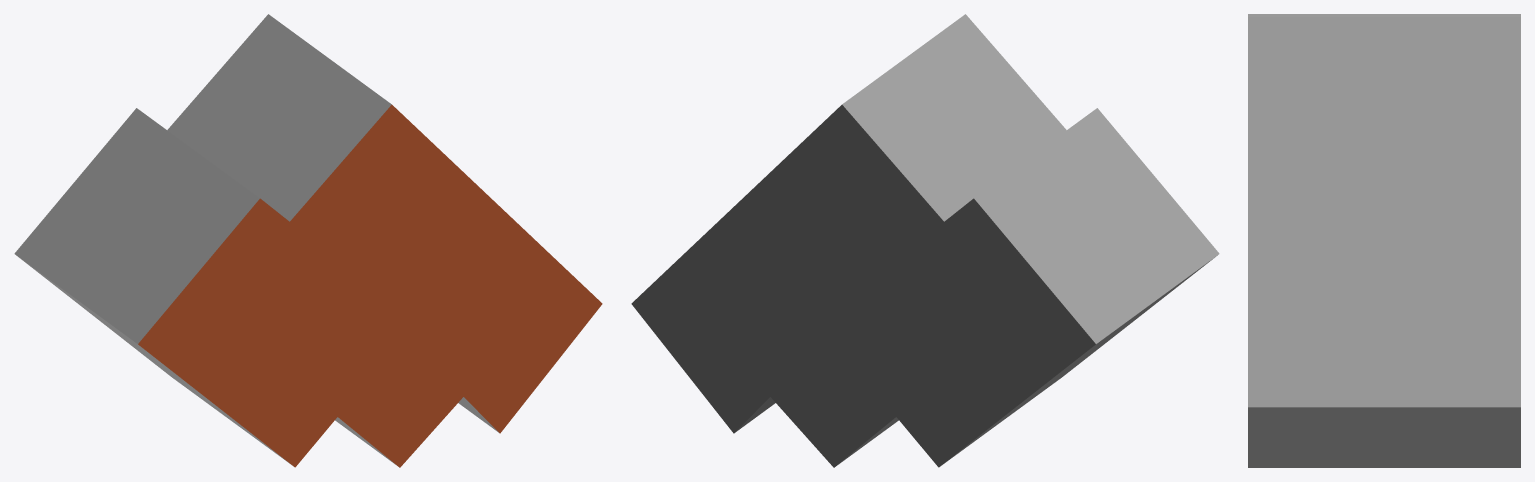
Rendered from construction_3360_assumed_A_Casa_h6m.obj.
3 renders of one model, left to right at view 1: azimuth 30°, elevation 25°; view 2: azimuth 150°, elevation 25°; view 3: azimuth 270°, elevation 25°, orthographic. The views are drawn at different scales.
Visible parts, largest first — view 1: construction_3360_assumed_A_Casa; view 2: construction_3360_assumed_A_Casa; view 3: construction_3360_assumed_A_Casa.
Boxes of the visible parts, bbox=[...] form: construction_3360_assumed_A_Casa: bbox=[14, 14, 602, 467]; construction_3360_assumed_A_Casa: bbox=[631, 14, 1219, 467]; construction_3360_assumed_A_Casa: bbox=[1248, 14, 1520, 467].
Size of the model in its own units: 13.03 by 9.79 by 6.
